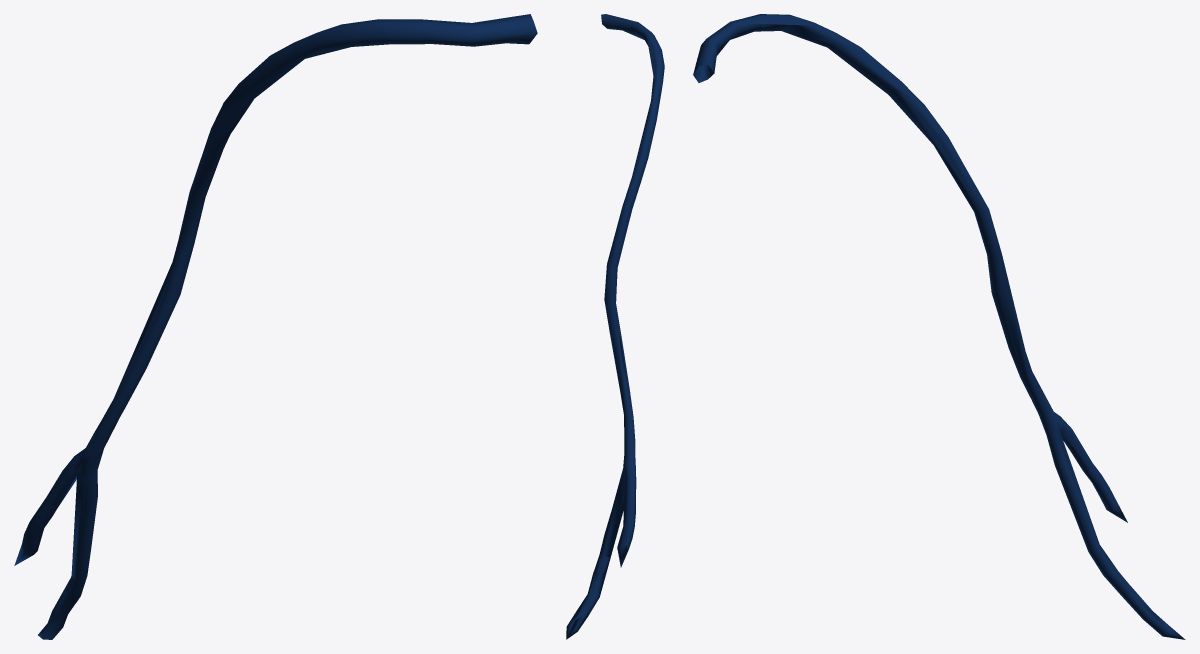
File: L vena caudalis femoris.fbx
3 views of the same model, side by side, from view 1: azimuth 30°, elevation 25°; view 2: azimuth 150°, elevation 25°; view 3: azimuth 270°, elevation 25° (orthographic). The views are drawn at different scales.
Parts seen in each view (by area): view 1: L vena caudalis femoris, L vena caudalis femoris low; view 2: L vena caudalis femoris, L vena caudalis femoris low; view 3: L vena caudalis femoris, L vena caudalis femoris low.
Part boxes in pixels (bbox=[...]): L vena caudalis femoris: bbox=[15, 19, 537, 639]; L vena caudalis femoris low: bbox=[14, 14, 535, 638]; L vena caudalis femoris: bbox=[566, 22, 664, 639]; L vena caudalis femoris low: bbox=[566, 14, 663, 638]; L vena caudalis femoris: bbox=[693, 14, 1185, 639]; L vena caudalis femoris low: bbox=[693, 14, 1174, 631].
Size of the model in its own units: 4.38 by 11.67 by 7.77.
